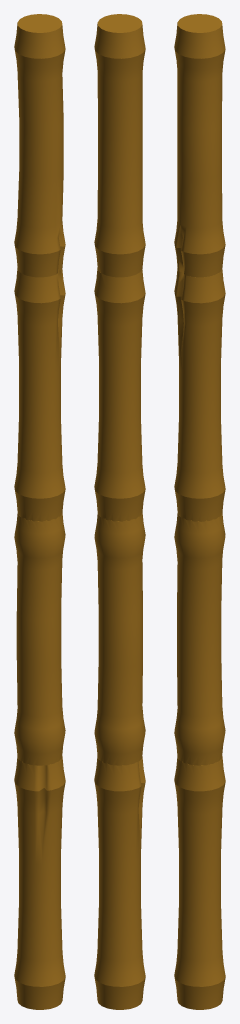
Rendered from Cave_Prop_Bamboo.FBX.
3 views of the same model, side by side, from view 1: azimuth 90°, elevation 25°; view 2: azimuth 150°, elevation 25°; view 3: azimuth 330°, elevation 25° (orthographic).
Visible parts, largest first — view 1: Prop_Bamboo; view 2: Prop_Bamboo; view 3: Prop_Bamboo.
Part boxes in pixels (x1=…): Prop_Bamboo: x1=14, y1=14, x2=65, y2=1009; Prop_Bamboo: x1=94, y1=14, x2=145, y2=1009; Prop_Bamboo: x1=174, y1=14, x2=225, y2=1009.
Size of the model in its own units: 12.37 by 12.35 by 258.
